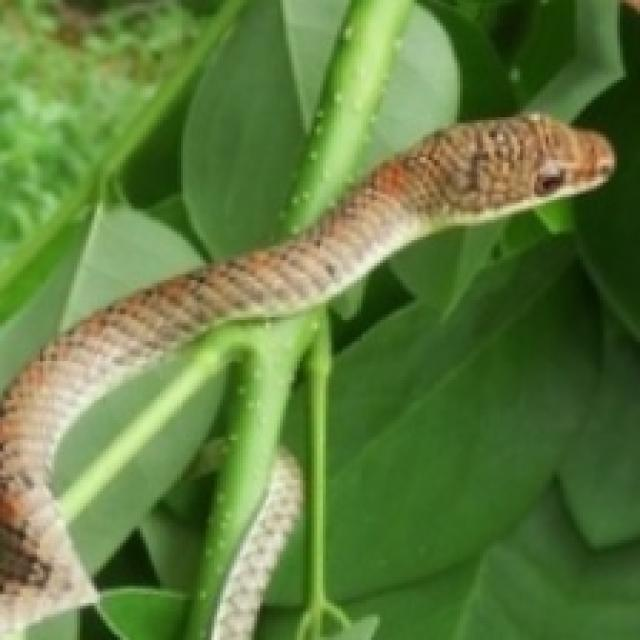paradise tree snake: (0, 114, 611, 637), (211, 449, 300, 637)
